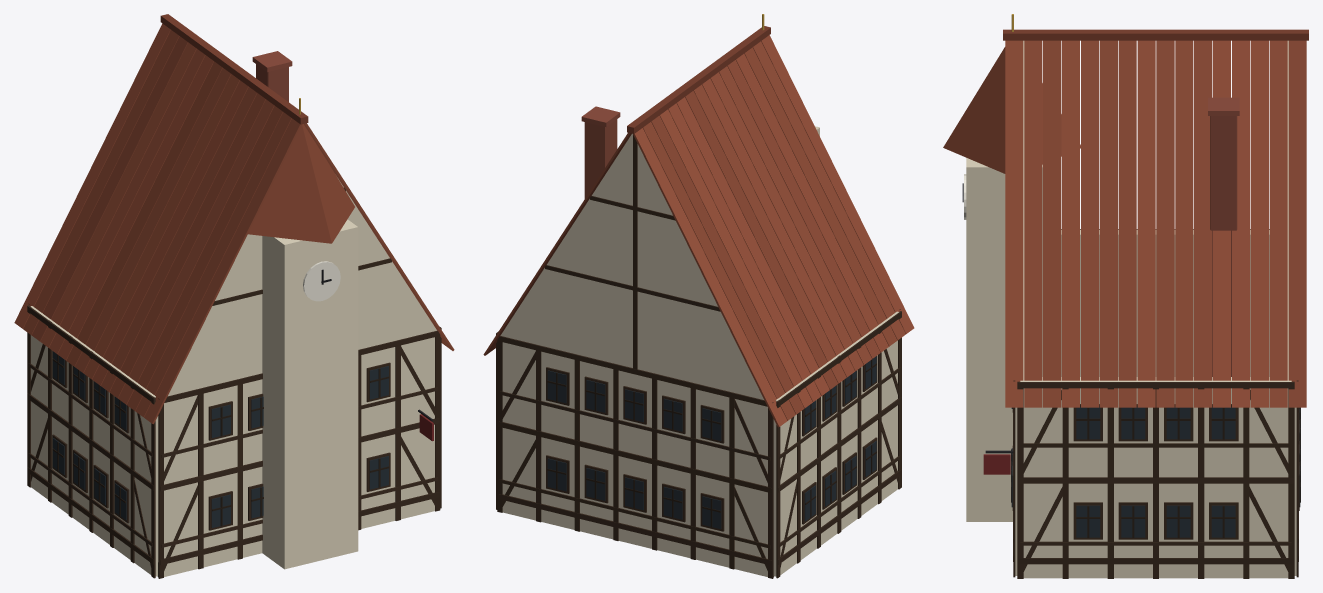
The model's file is townhall_2.glb.
The picture shows the model from 3 angles, left to right: view 1: azimuth 30°, elevation 25°; view 2: azimuth 150°, elevation 25°; view 3: azimuth 270°, elevation 25°; orthographic projection. The views are drawn at different scales.
Visible parts, largest first — view 1: townhall2_plaster, townhall2_tiles, townhall2_wood, townhall2_glass, townhall2_brick, townhall2_stone; view 2: townhall2_plaster, townhall2_tiles, townhall2_wood, townhall2_glass, townhall2_brick; view 3: townhall2_tiles, townhall2_plaster, townhall2_wood, townhall2_glass, townhall2_brick.
Boxes of the visible parts, left/top/right/bottom form: townhall2_plaster: left=30, top=177, right=436, bottom=576; townhall2_tiles: left=14, top=14, right=454, bottom=424; townhall2_wood: left=27, top=188, right=441, bottom=578; townhall2_glass: left=53, top=351, right=388, bottom=527; townhall2_brick: left=252, top=51, right=292, bottom=101; townhall2_stone: left=157, top=261, right=340, bottom=576; townhall2_plaster: left=500, top=126, right=898, bottom=576; townhall2_tiles: left=483, top=26, right=914, bottom=427; townhall2_wood: left=496, top=135, right=901, bottom=578; townhall2_glass: left=547, top=356, right=876, bottom=529; townhall2_brick: left=581, top=106, right=620, bottom=198; townhall2_tiles: left=943, top=29, right=1308, bottom=407; townhall2_plaster: left=966, top=40, right=1296, bottom=578; townhall2_wood: left=983, top=229, right=1300, bottom=578; townhall2_glass: left=1011, top=407, right=1300, bottom=537; townhall2_brick: left=1208, top=97, right=1239, bottom=376.
Bounding box in the file's own units: 9.85 × 13.92 × 9.45.
